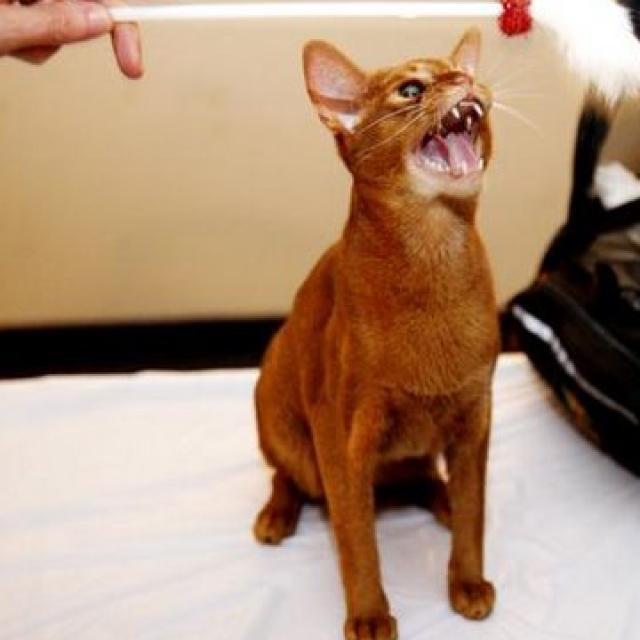Abyssinian: (246, 20, 508, 640)
